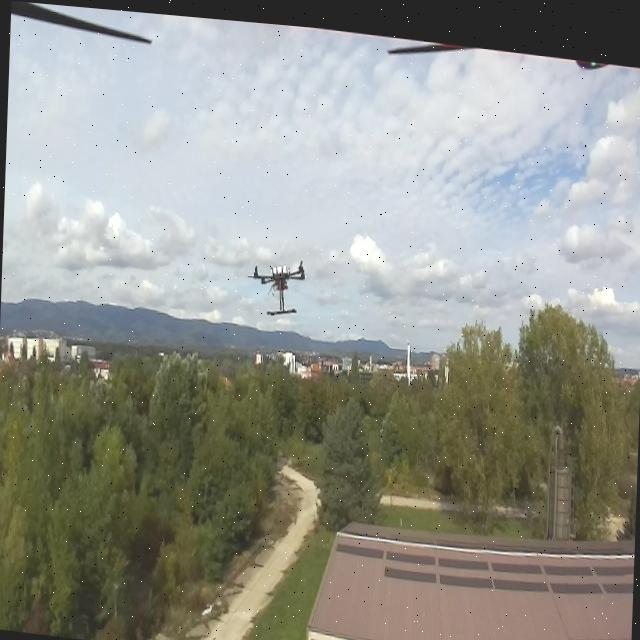drone: (240, 233, 320, 340)
